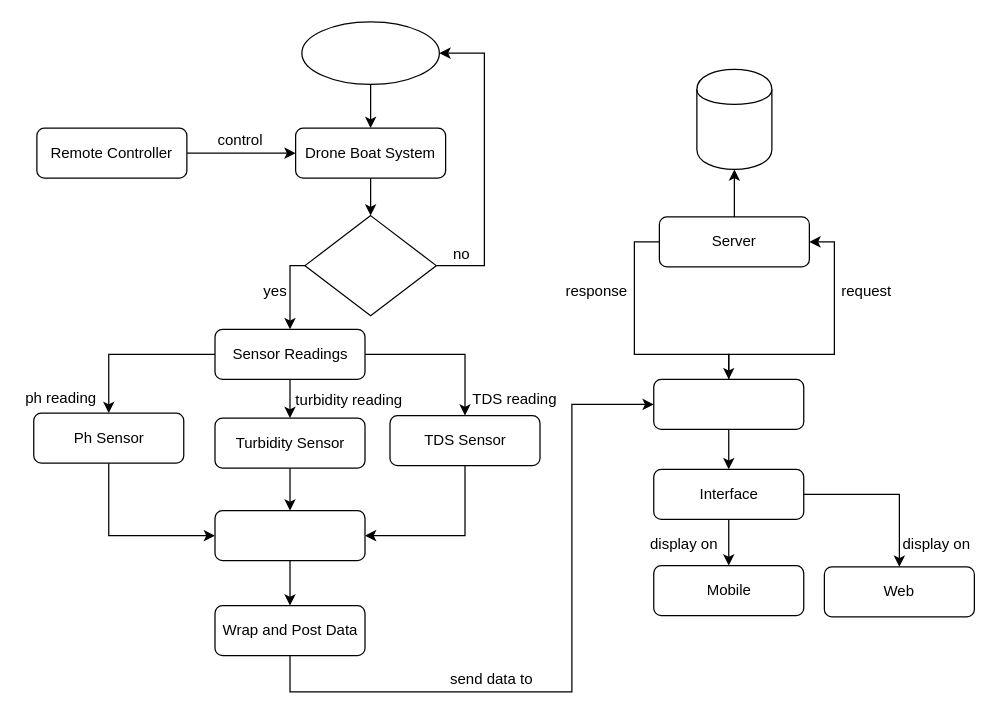
Image size: 996x724. Some labels were removed from this diagram. The shapes that lost their labels are listed below. From the top down, each one's centre as x and y in pixels, then its label:
[370,52]: Power on / Start
[734,118]: Database
[370,265]: if System is on
[728,403]: API
[289,535]: Data Processing
